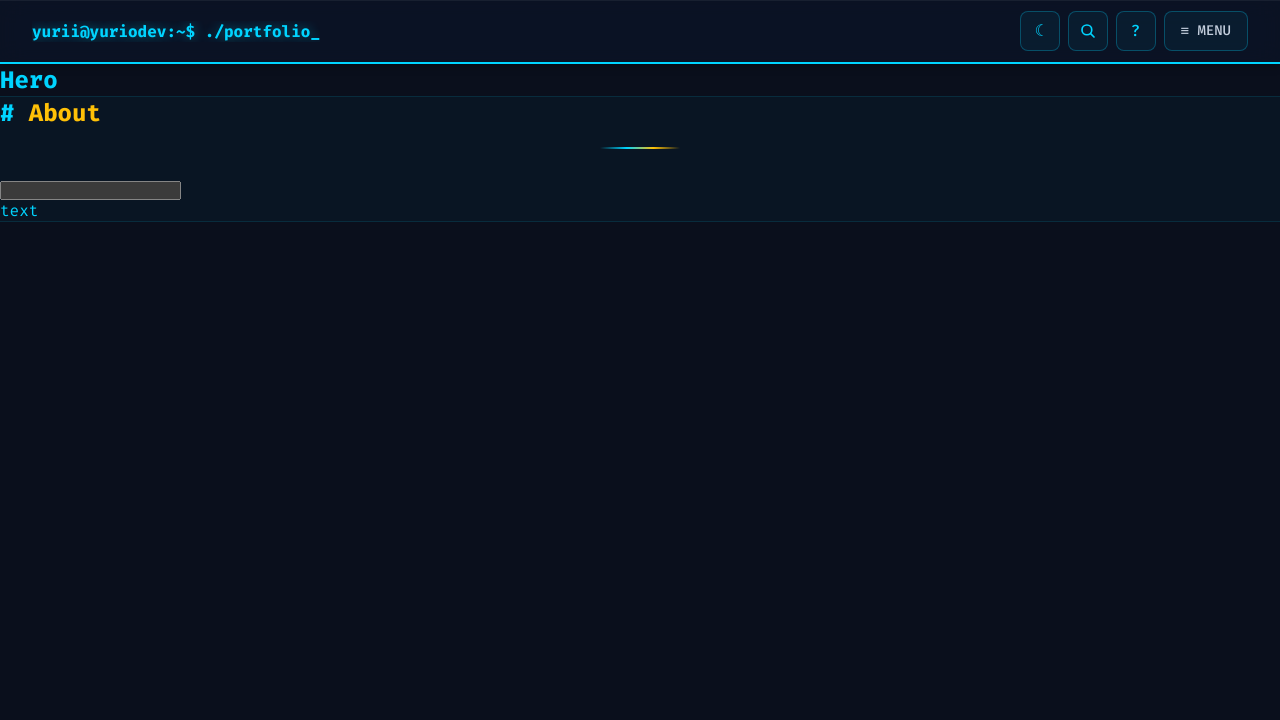
PageLayout overlays › opening the palette closes the header menu
Click the button with aria-label "Toggle mobile menu". click: click(1206, 31)
box: [1164,11,1248,51]
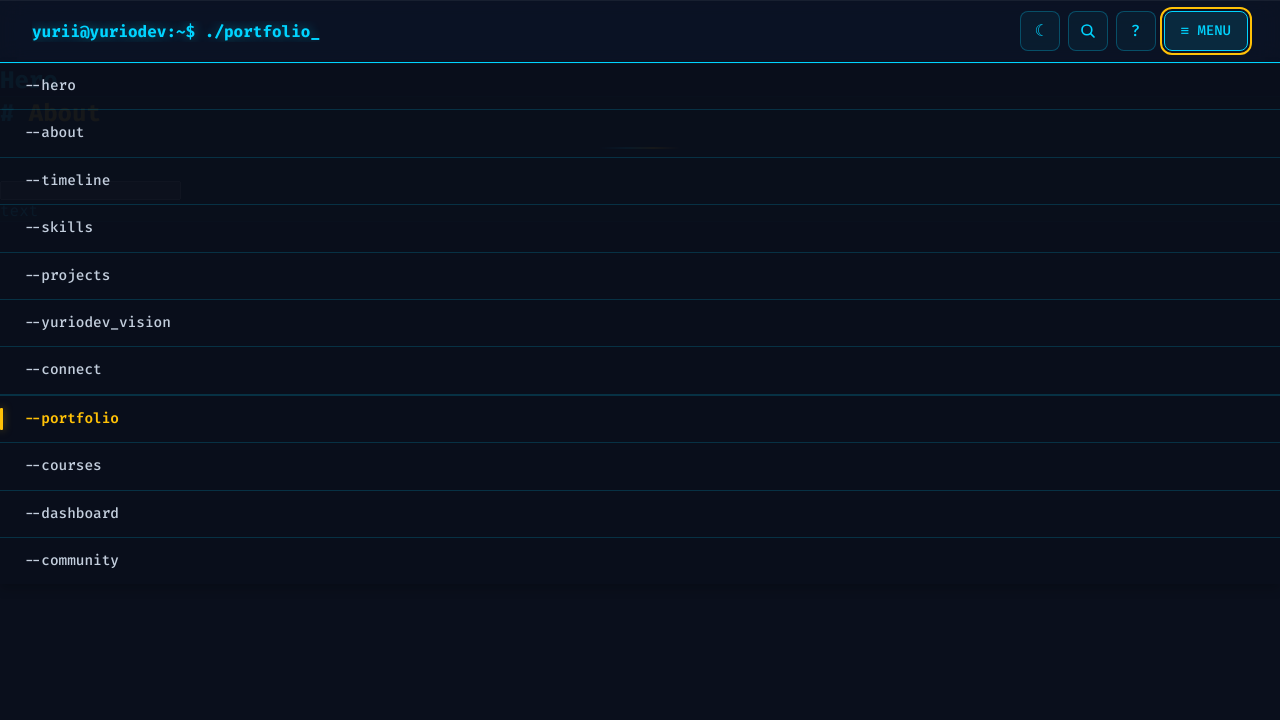
expect the button with aria-label "Toggle mobile menu" is expanded: met, box [1164,11,1248,51]
Type keys "{Control>}k{/Control}"
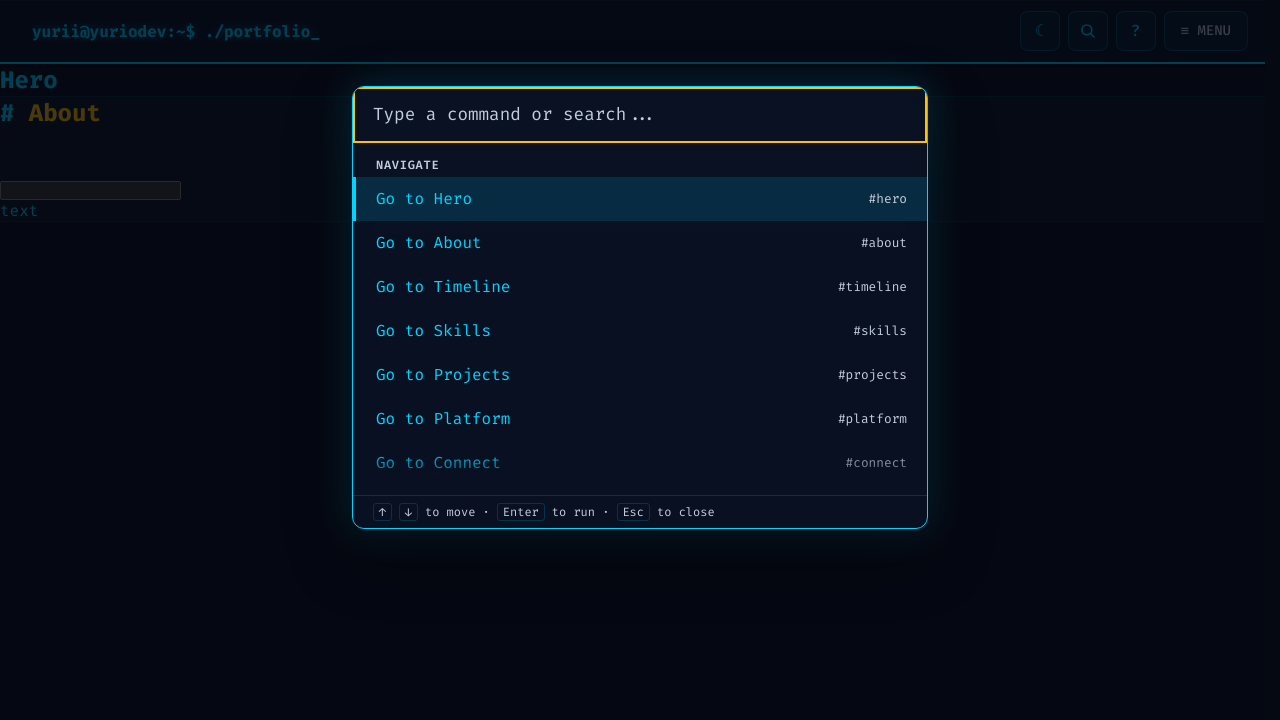
expect the dropdown named "Search commands" is shown: met, box [353,87,927,143]
expect the button with aria-label "Toggle mobile menu" is collapsed: met, box [1164,11,1248,51]
